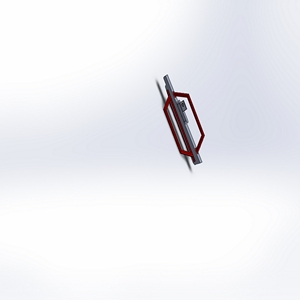submarine: (150, 72, 225, 176)
